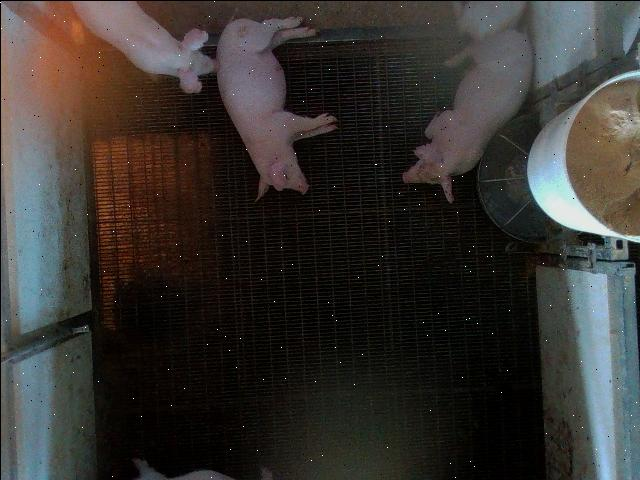pig-1: (216, 16, 336, 198)
